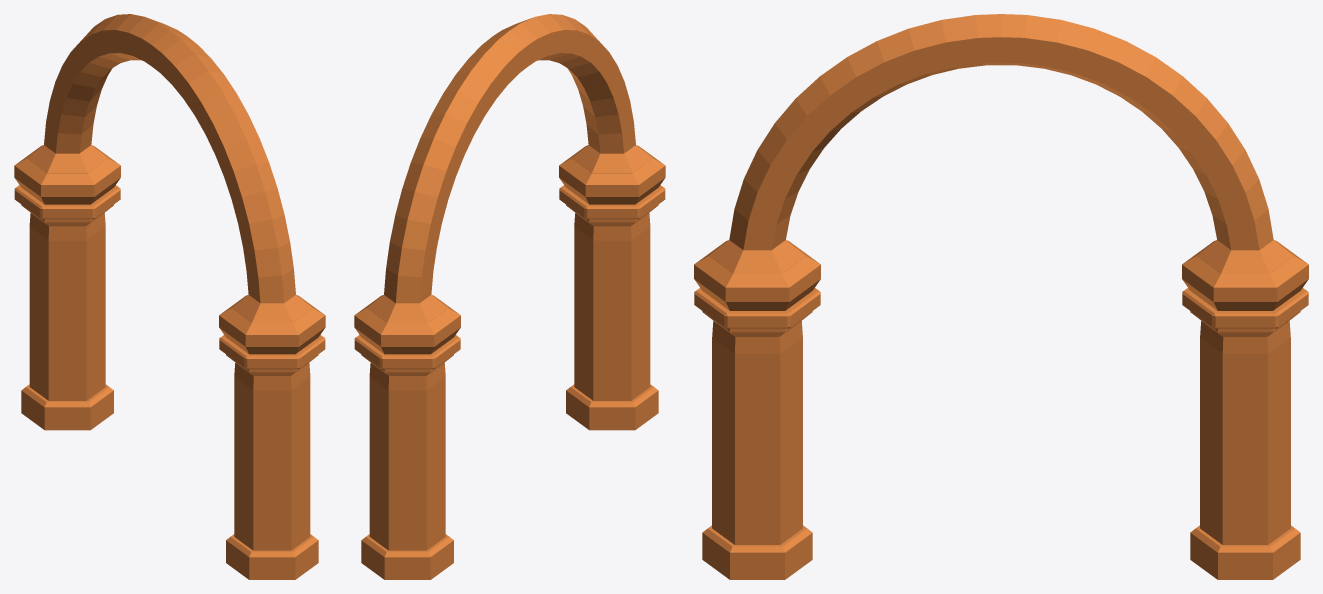
Rendered from Arch Better.fbx.
The picture shows the model from 3 angles, left to right: view 1: azimuth 30°, elevation 25°; view 2: azimuth 150°, elevation 25°; view 3: azimuth 270°, elevation 25°; orthographic projection. The views are drawn at different scales.
Parts seen in each view (by area): view 1: Circle; view 2: Circle; view 3: Circle.
Boxes of the visible parts, bbox=[...] form: Circle: bbox=[14, 14, 325, 579]; Circle: bbox=[354, 14, 665, 579]; Circle: bbox=[694, 14, 1308, 579].
Size of the model in its own units: 202 by 1092 by 1115.
